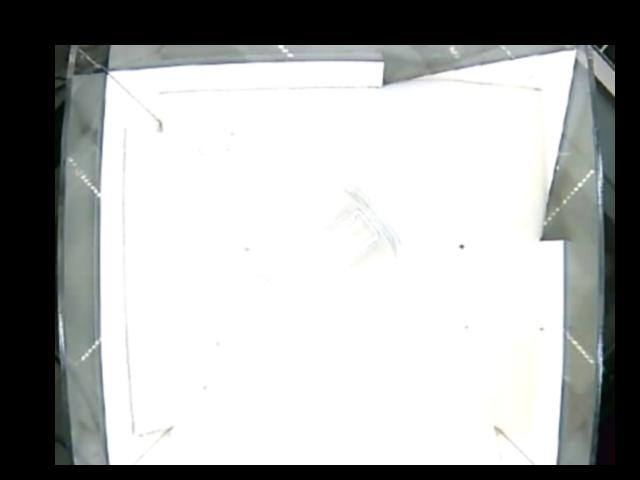Bottle: (249, 168, 424, 327)
